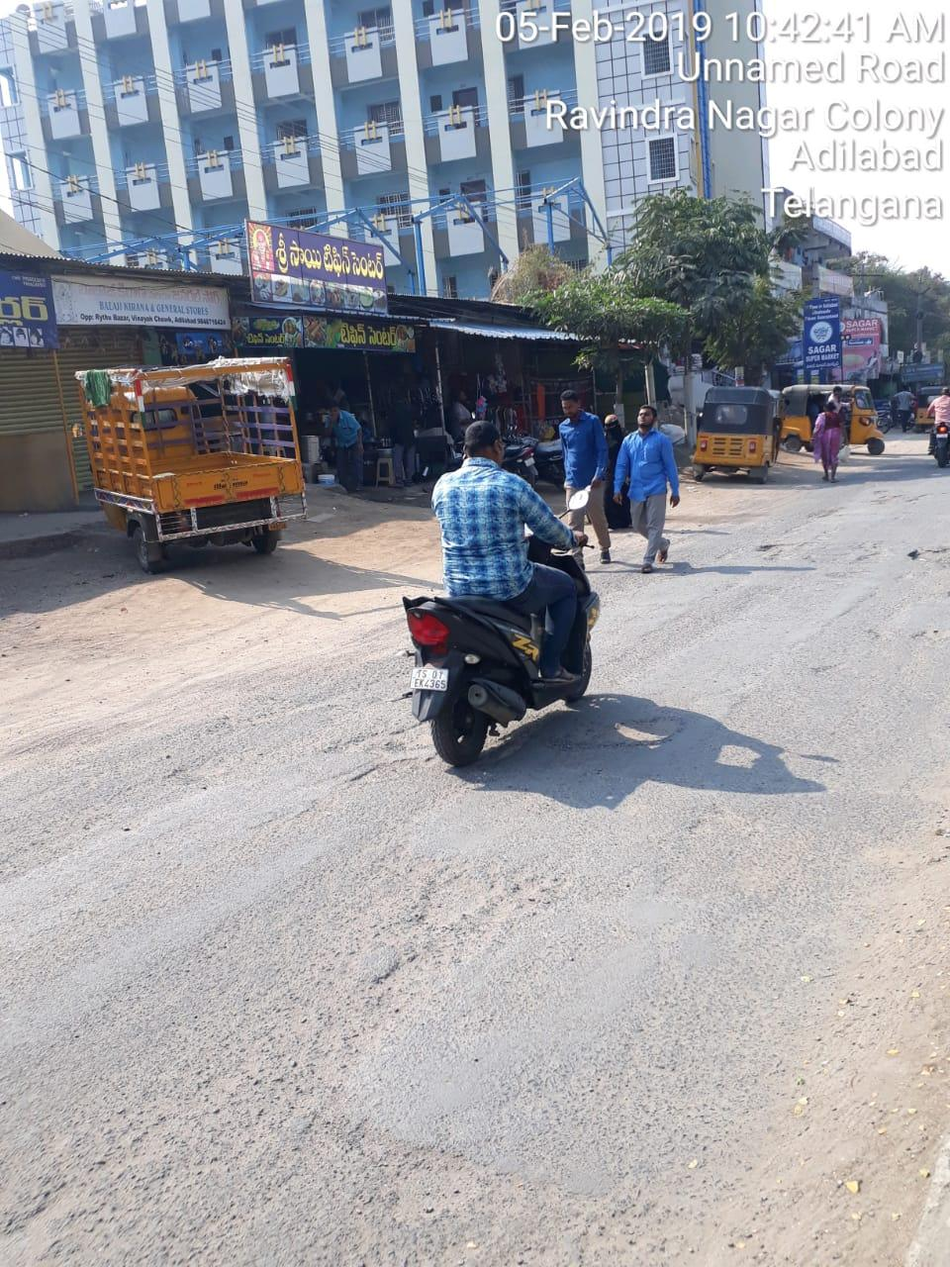plate: (407, 663, 457, 695)
